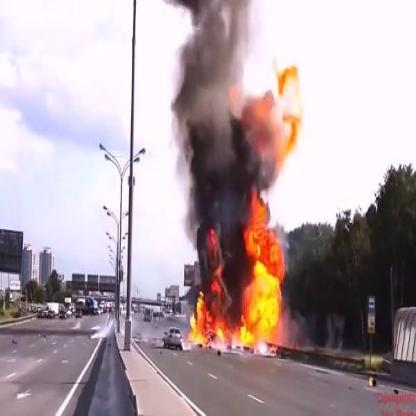fire: (184, 61, 310, 353), (368, 374, 374, 390)
